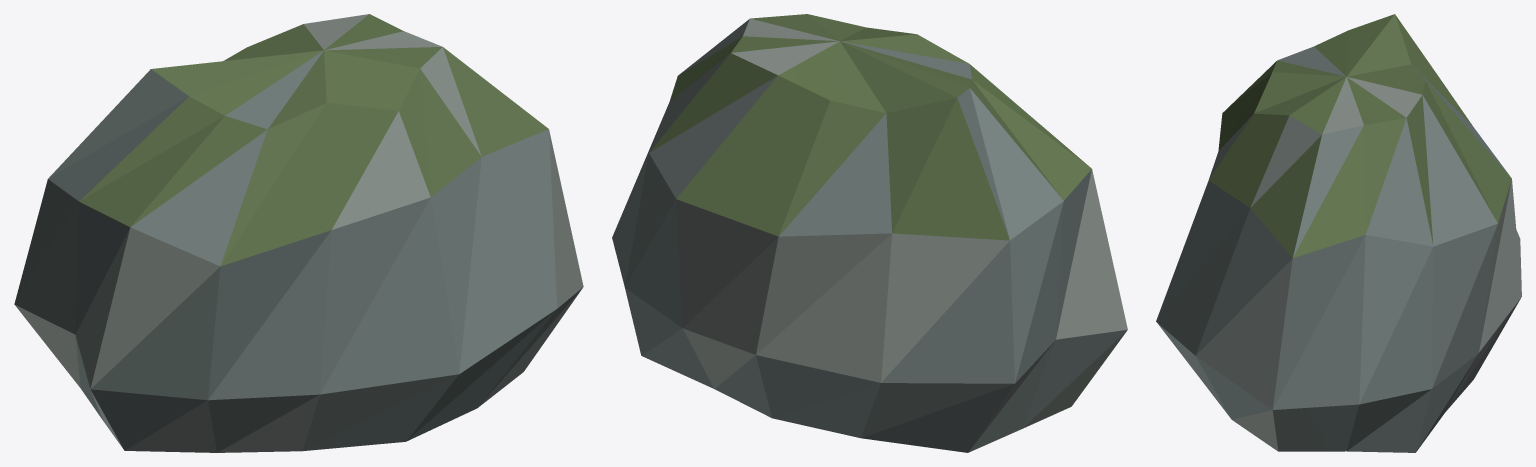
The model's file is p_mossrock.glb.
3 views of the same model, side by side, from view 1: azimuth 30°, elevation 25°; view 2: azimuth 150°, elevation 25°; view 3: azimuth 270°, elevation 25° (orthographic). The views are drawn at different scales.
Visible parts, largest first — view 1: ASSET_MossyRock_02; view 2: ASSET_MossyRock_02; view 3: ASSET_MossyRock_02.
Part boxes in pixels (x1,y1,x2,y2): ASSET_MossyRock_02: [14, 14, 583, 452]; ASSET_MossyRock_02: [612, 14, 1127, 452]; ASSET_MossyRock_02: [1156, 14, 1521, 452].
Bounding box in the file's own units: 1.54 × 1 × 1.09.
